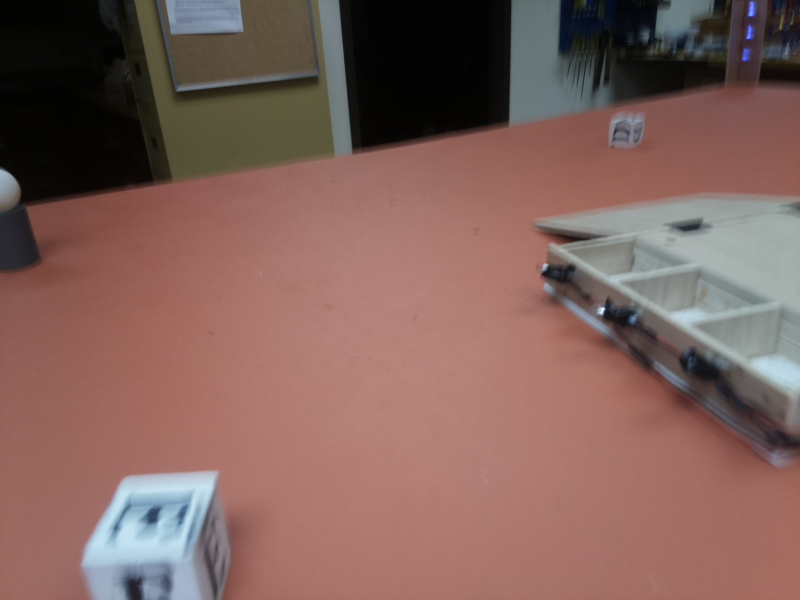blockD: (605, 111, 648, 152)
blockE: (78, 471, 232, 600)
obstacle: (1, 169, 48, 275)
side: (540, 242, 795, 475)
slope: (535, 190, 800, 237)
